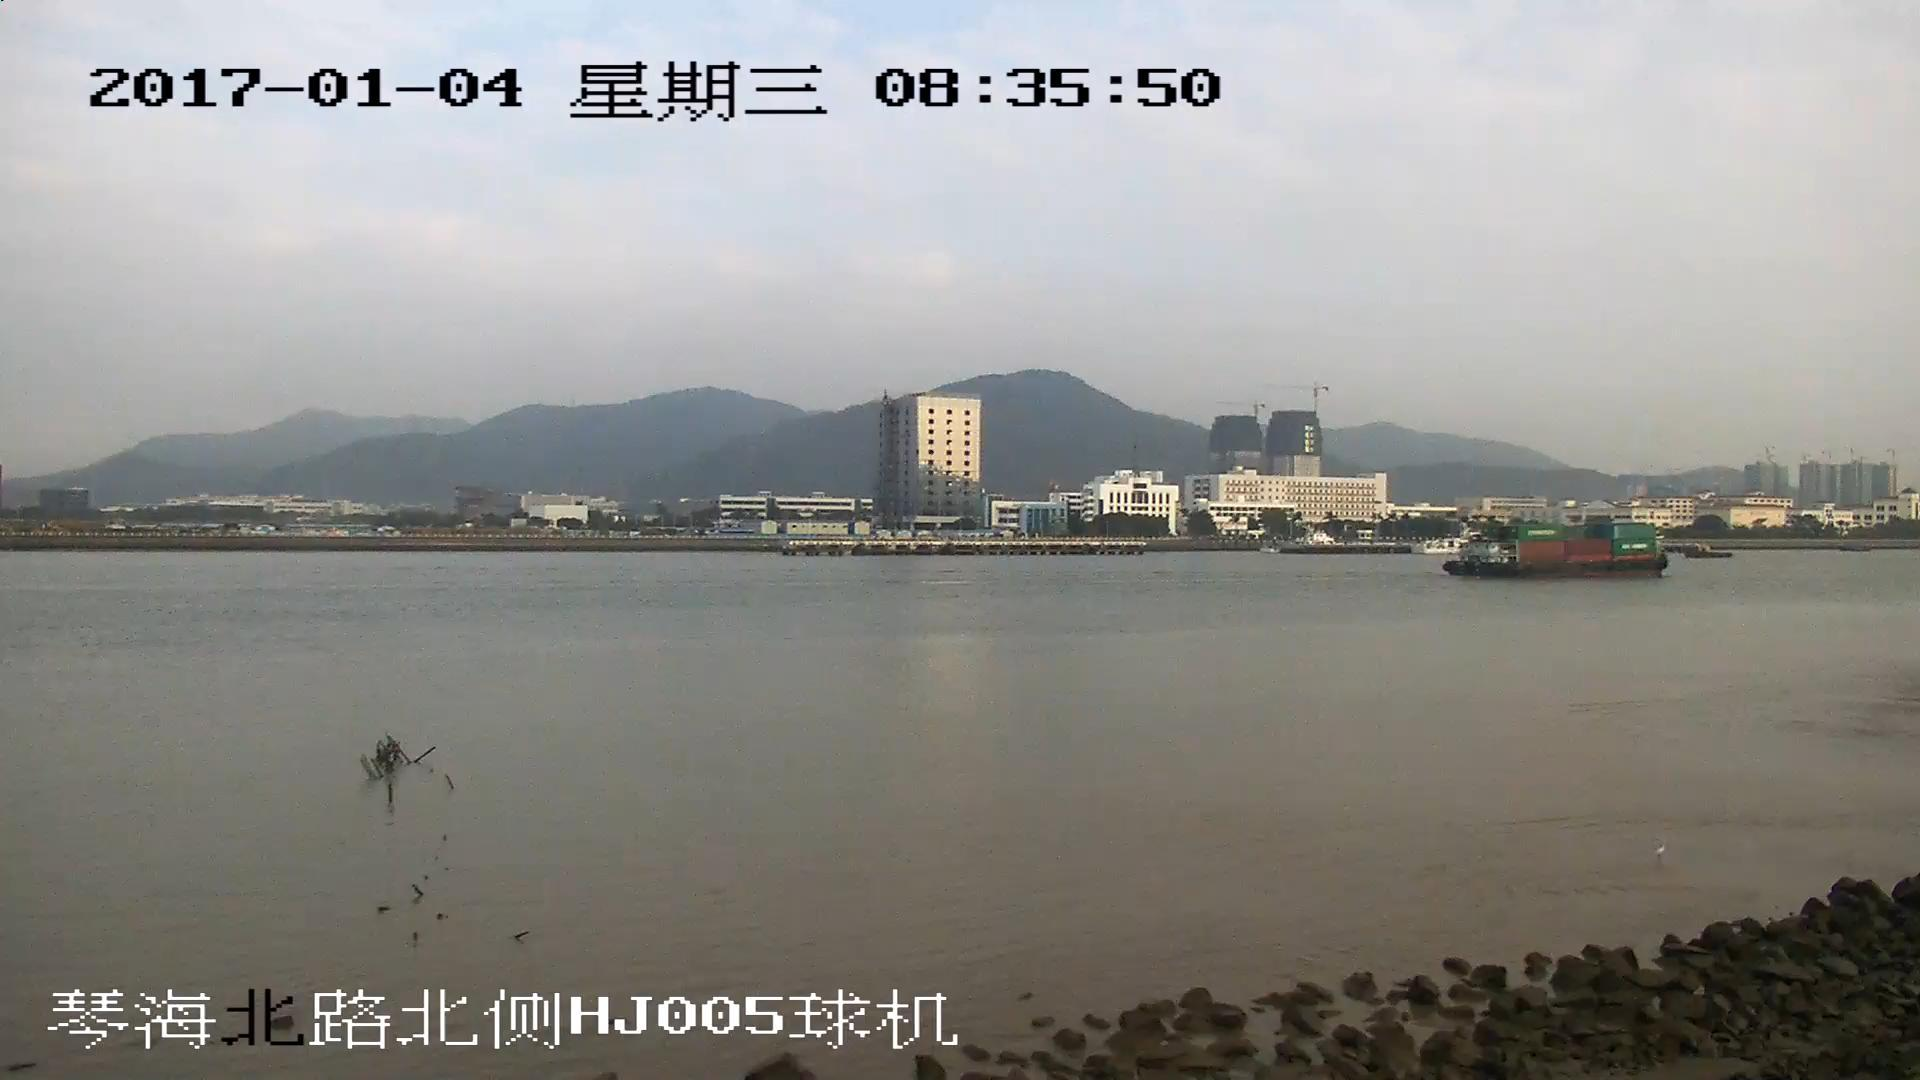Ship: (1444, 522, 1665, 578)
